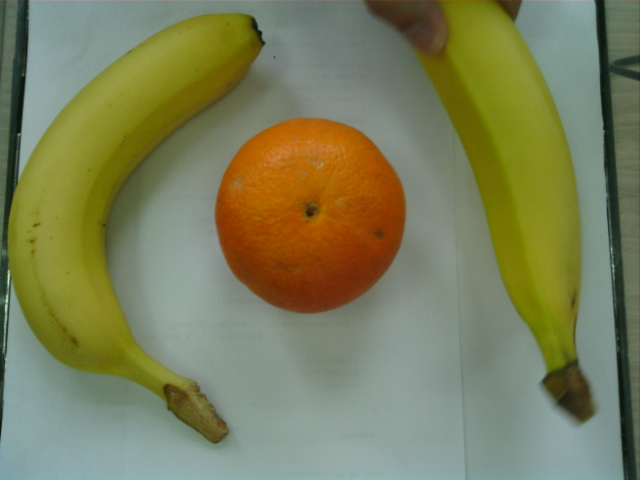normal_banana: (8, 12, 261, 372), (410, 3, 594, 411)
normal_orange: (216, 117, 405, 315)
